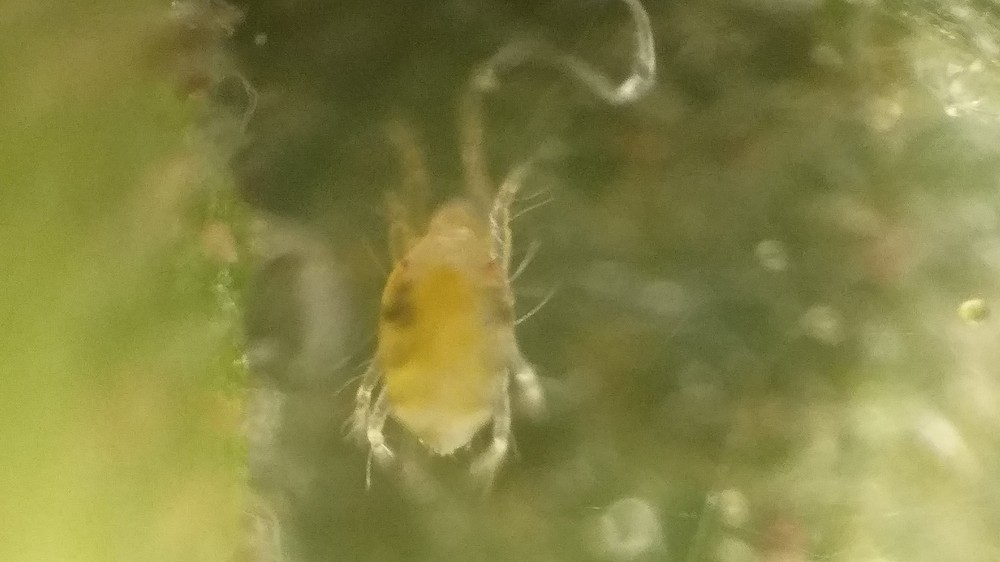Aracnido Rojo: (319, 111, 577, 507)
